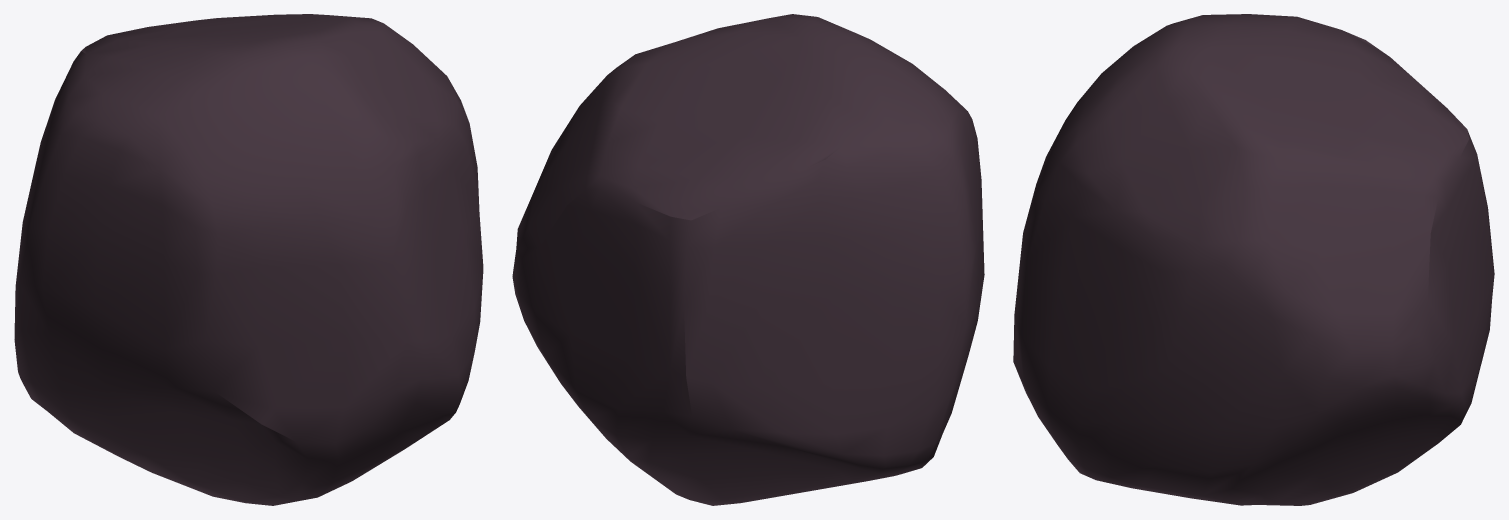
The model's file is prop-cannonball.glb.
The picture shows the model from 3 angles, left to right: view 1: azimuth 30°, elevation 25°; view 2: azimuth 150°, elevation 25°; view 3: azimuth 270°, elevation 25°; orthographic projection. The views are drawn at different scales.
Visible parts, largest first — view 1: Prop_CannonBall; view 2: Prop_CannonBall; view 3: Prop_CannonBall.
Part boxes in pixels (x1,y1,x2,y2): Prop_CannonBall: (14,14,483,505); Prop_CannonBall: (512,14,984,505); Prop_CannonBall: (1013,14,1494,505).
Bounding box in the file's own units: 0.4043 × 0.4062 × 0.3903.
1 material, 1 textured.
